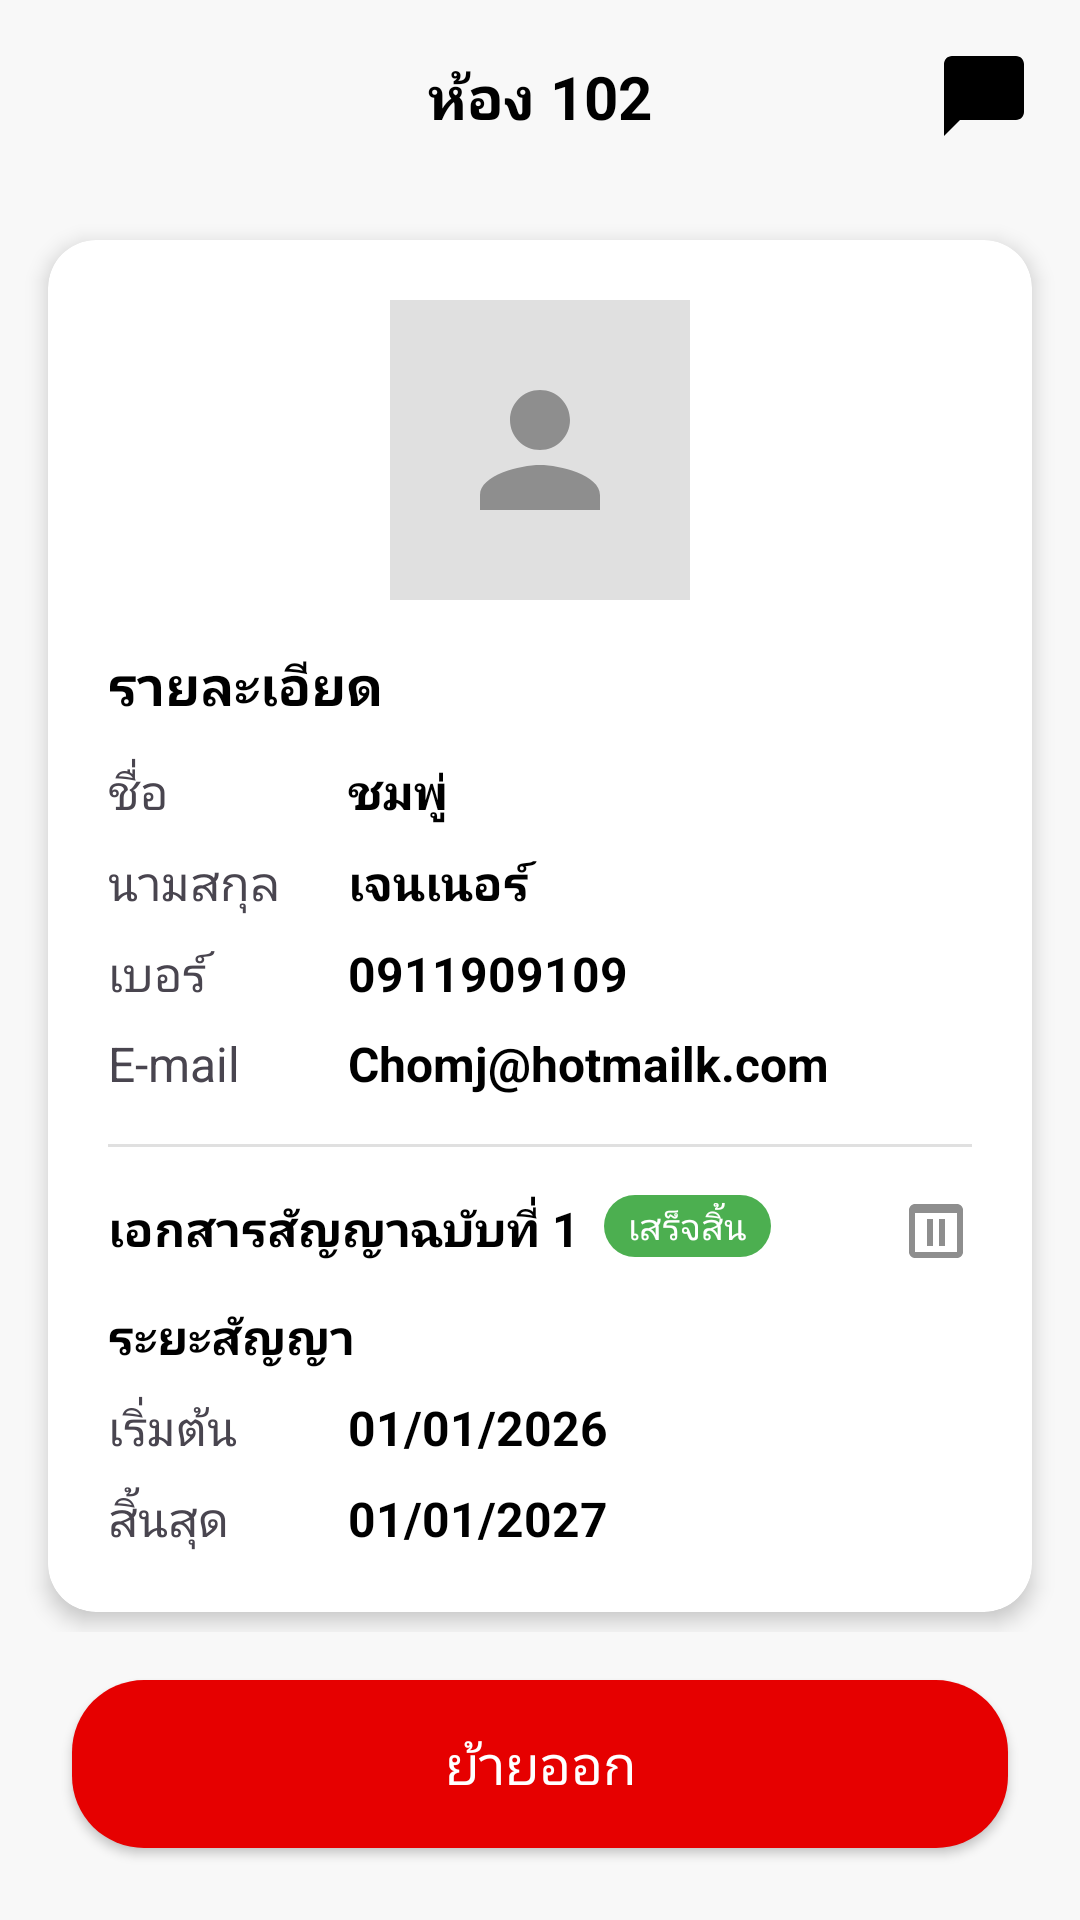

Icons on this 1080*1920 Android screen, each with the point to tap as point (x, y):
chat: point (984, 96)
person: point (540, 450)
